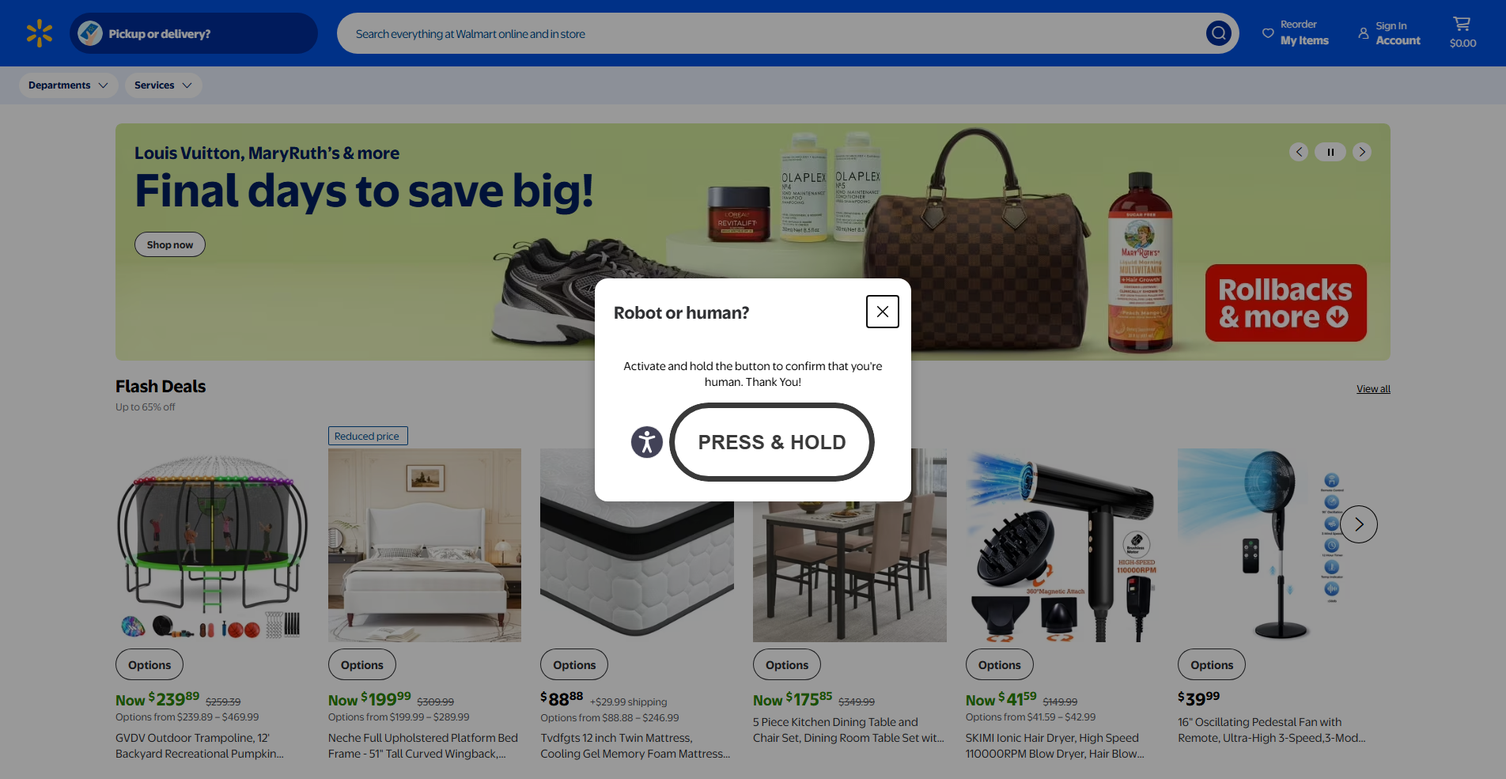button: (1252, 13, 1341, 54), (1348, 13, 1433, 54), (19, 73, 119, 98), (115, 649, 184, 680), (540, 649, 609, 680), (965, 649, 1034, 680), (1390, 649, 1459, 680), (328, 649, 396, 680), (753, 649, 821, 680), (1178, 649, 1246, 680), (125, 73, 203, 98), (1440, 13, 1487, 54), (1164, 13, 1202, 54), (1340, 506, 1378, 544), (867, 295, 899, 327), (1206, 21, 1232, 46), (1289, 142, 1308, 161), (1321, 142, 1340, 161), (1353, 142, 1372, 161)
input: (337, 13, 1240, 54)
link: (118, 126, 1388, 358), (115, 427, 309, 761), (540, 427, 734, 761), (965, 427, 1159, 761), (328, 427, 521, 761), (753, 427, 946, 745), (1178, 427, 1371, 745), (1390, 427, 1506, 745), (134, 232, 206, 257), (19, 13, 60, 54), (1357, 381, 1391, 395)
